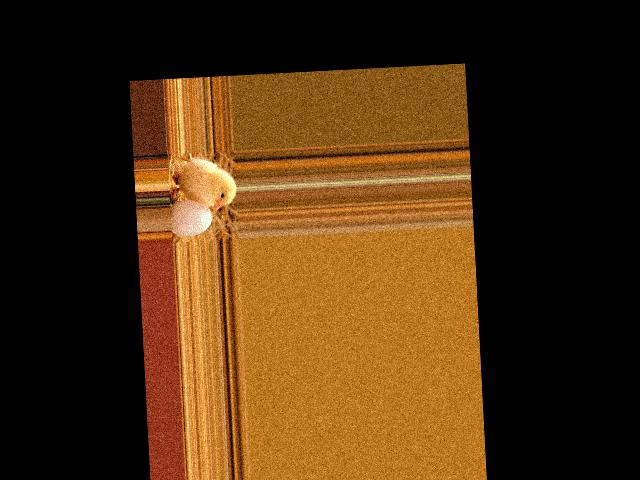egg: (169, 198, 212, 237)
